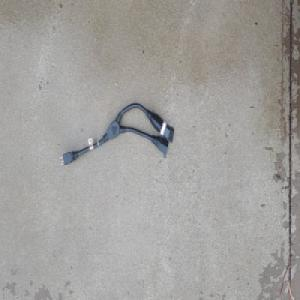Wire: (58, 100, 175, 168)
